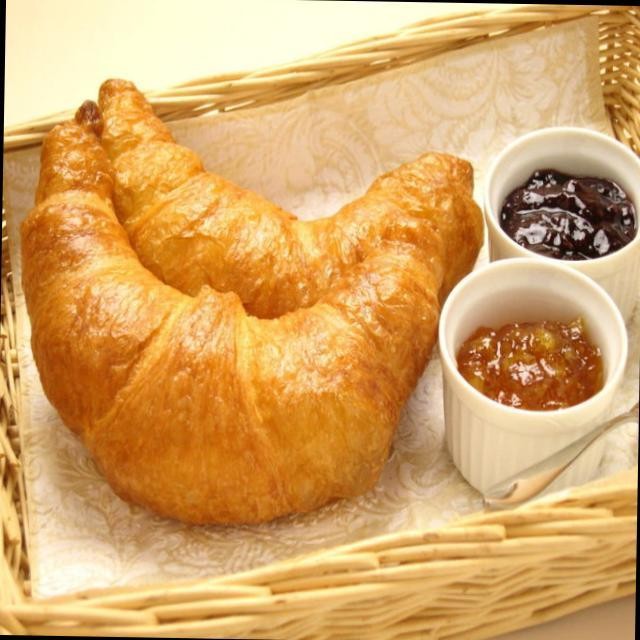Croissant: (20, 75, 452, 540)
